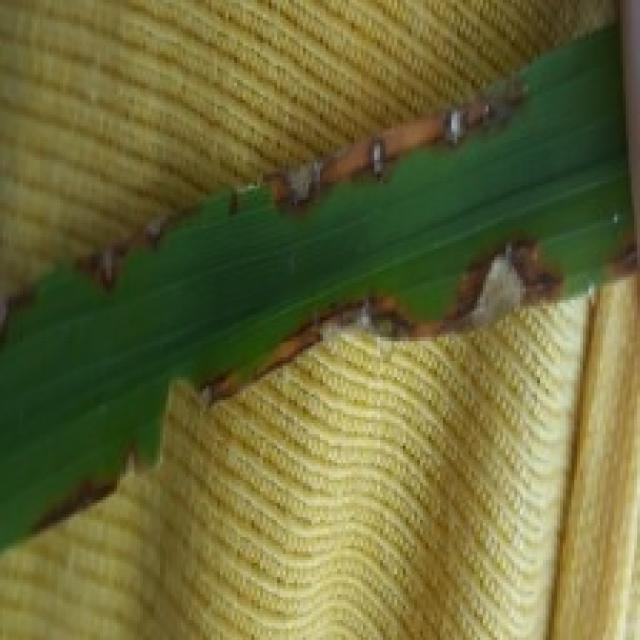Unhealthy: (252, 230, 566, 379), (261, 76, 522, 219), (71, 205, 196, 297), (29, 437, 145, 536), (0, 283, 38, 348), (602, 231, 638, 278), (195, 366, 236, 406), (228, 192, 238, 214)
